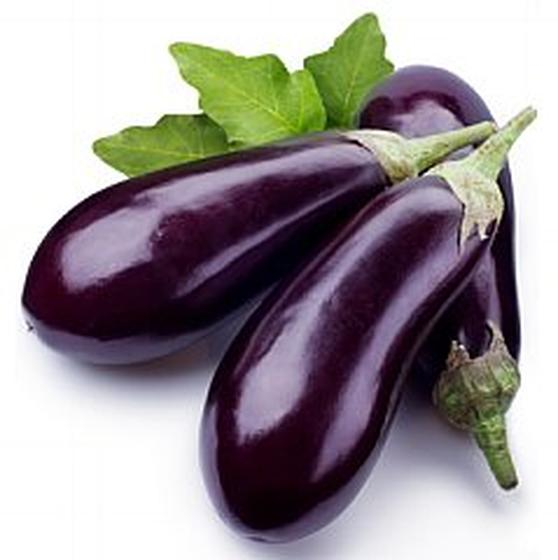eggplant: (27, 120, 440, 353)
